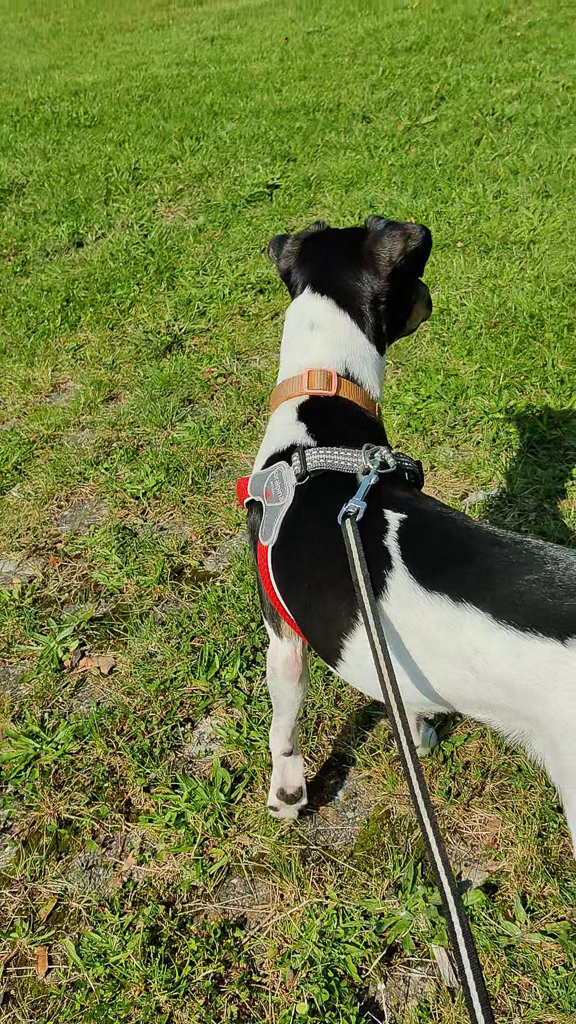Dog: (238, 195, 576, 905)
